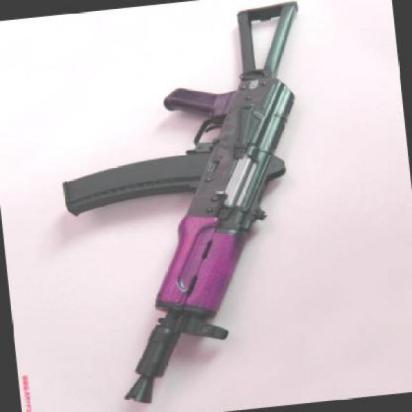Gun: (35, 0, 362, 412)
